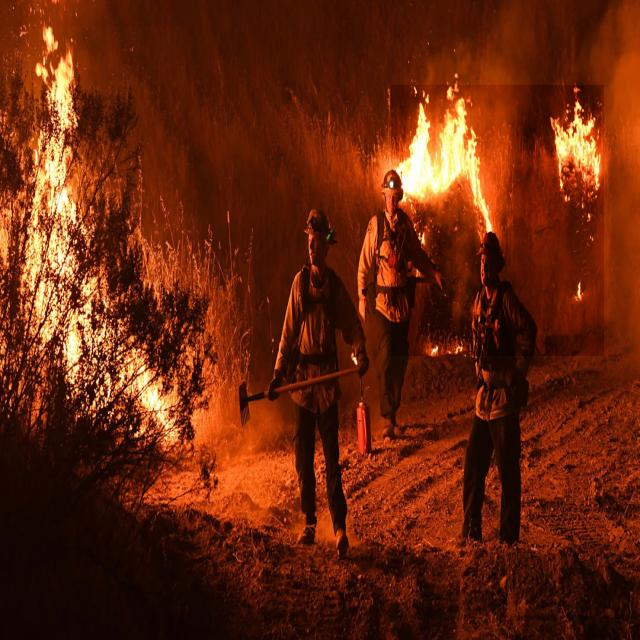Fire: (0, 27, 185, 457), (391, 85, 604, 356)
